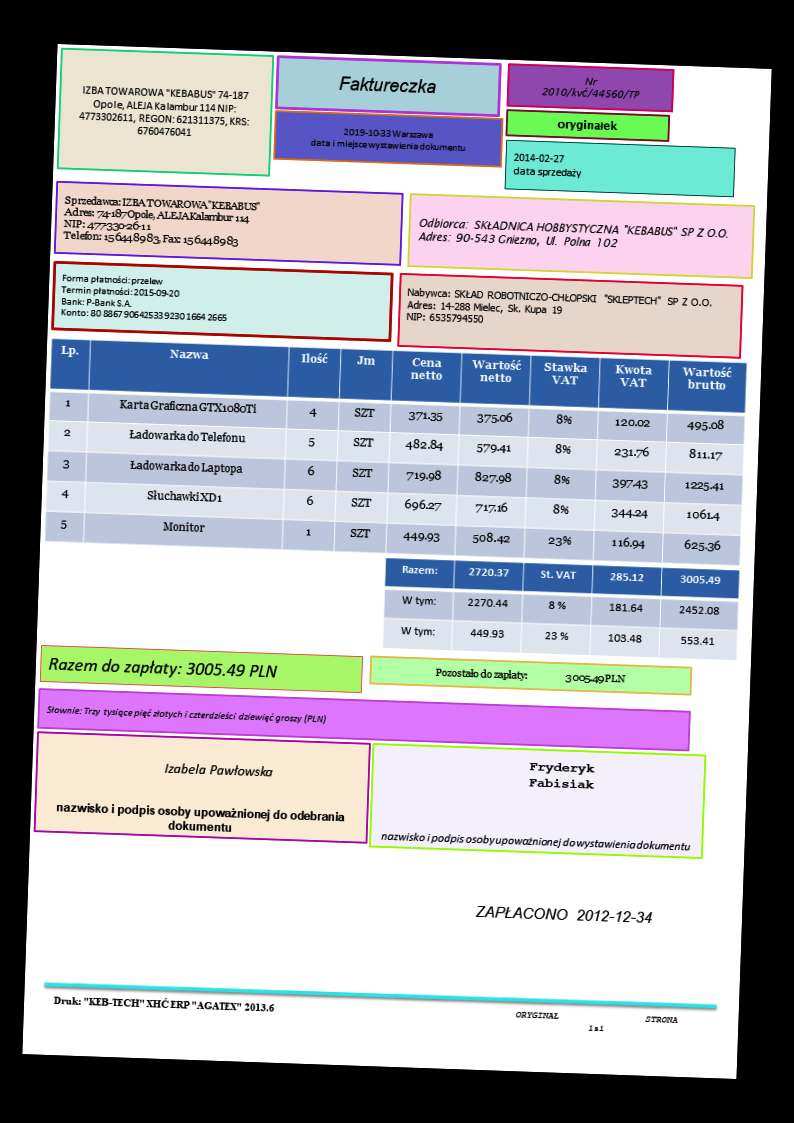Table: (43, 337, 748, 568), (380, 555, 742, 661)
TextBox: (404, 285, 714, 333), (414, 215, 731, 254), (61, 191, 262, 250), (54, 800, 346, 838), (76, 82, 252, 141), (58, 271, 229, 323), (378, 827, 693, 854), (46, 653, 280, 680), (45, 704, 329, 726), (50, 993, 277, 1016), (308, 125, 469, 156), (473, 902, 656, 928), (514, 1008, 679, 1036), (433, 665, 627, 686), (539, 73, 643, 104), (526, 759, 599, 791), (511, 151, 583, 182), (338, 74, 437, 96), (163, 761, 275, 779), (554, 116, 620, 134)
